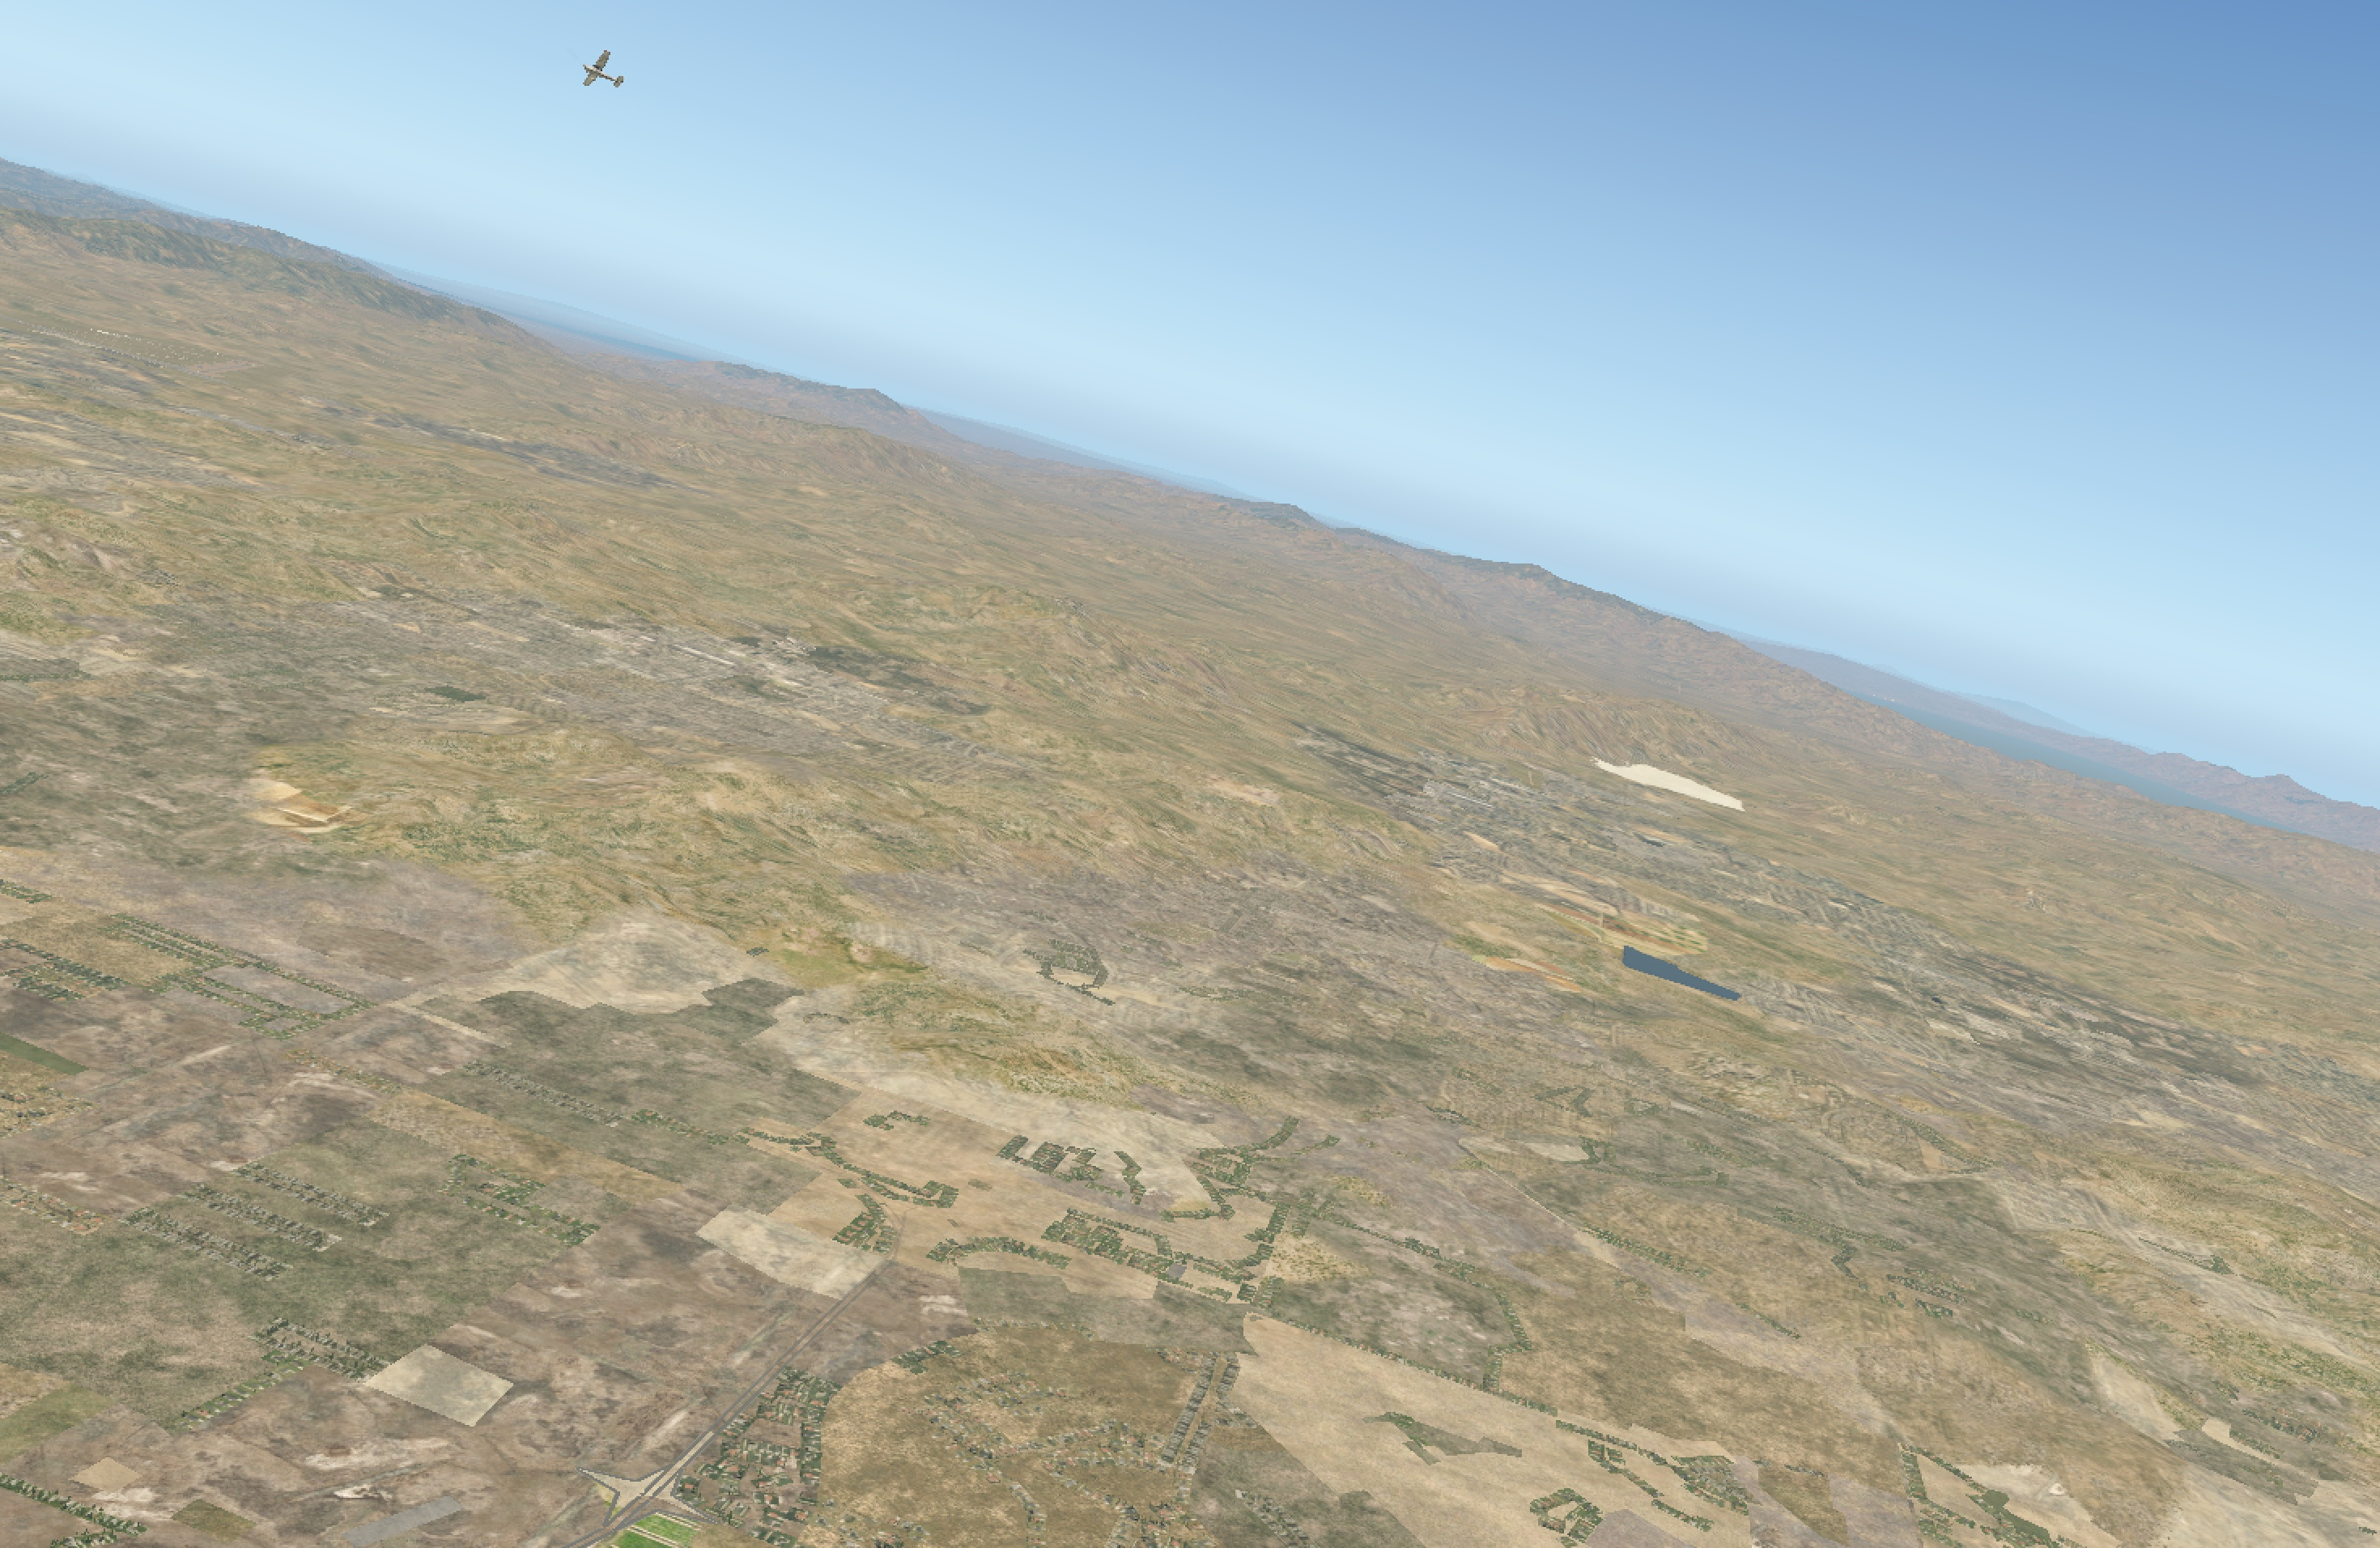aircraft: (576, 62, 614, 78)
